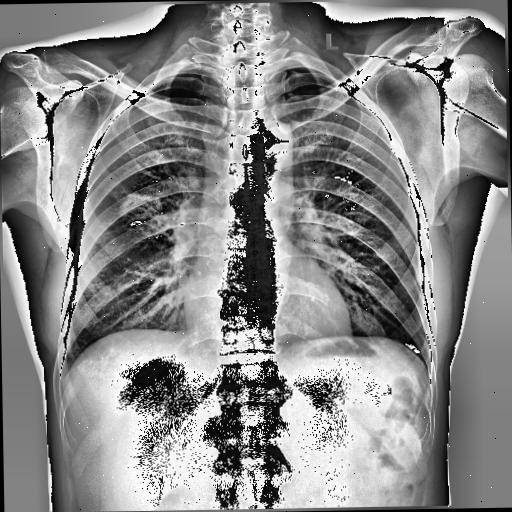0- Aortic enlargement: (246, 119, 294, 172)
10- Pleural effusion: (55, 363, 67, 387)
11- Pleural thickening: (55, 363, 67, 387)
13- Pulmonary fibrosis: (292, 111, 342, 158), (120, 190, 161, 218)
5- ILD: (117, 190, 164, 222), (119, 193, 163, 222)
6- Infiltration: (119, 193, 163, 222)
9- Other lesion: (292, 111, 342, 158)
